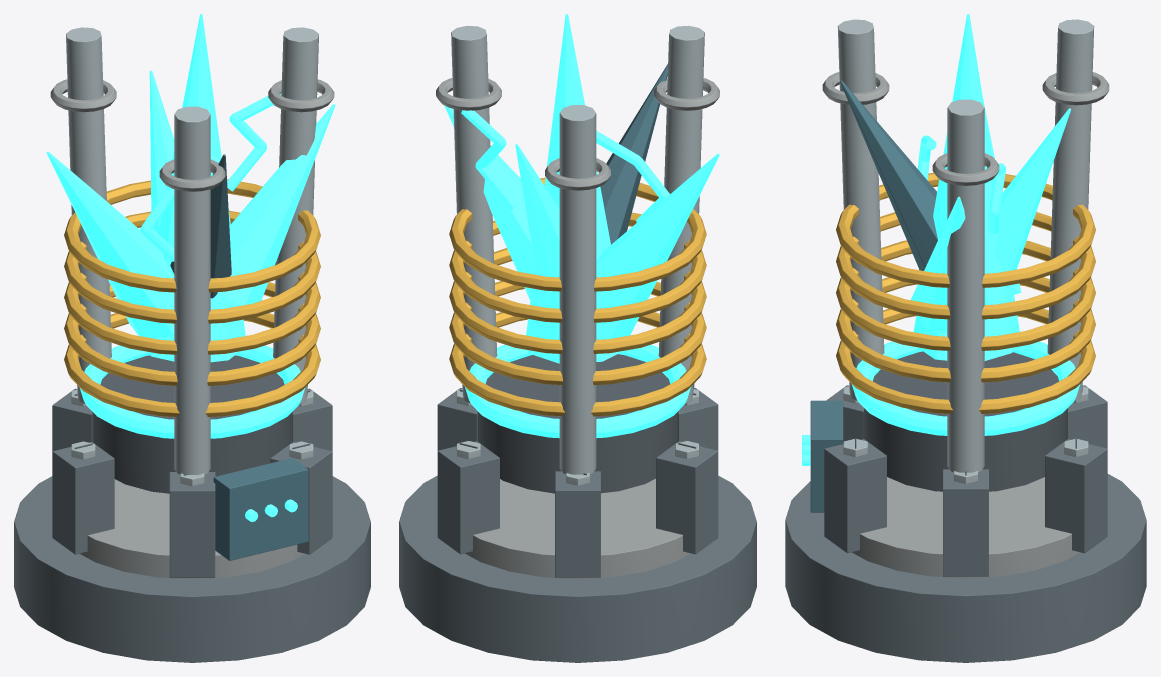
File: 22_Xenocrystal_Shock_Tower.fbx
3 renders of one model, left to right at view 1: azimuth 30°, elevation 25°; view 2: azimuth 150°, elevation 25°; view 3: azimuth 270°, elevation 25°, orthographic.
Visible parts, largest first — view 1: 22_Xenocrystal_Shock_Tower; view 2: 22_Xenocrystal_Shock_Tower; view 3: 22_Xenocrystal_Shock_Tower.
Part boxes in pixels (x1,y1,x2,y2): 22_Xenocrystal_Shock_Tower: (14,14,370,662); 22_Xenocrystal_Shock_Tower: (399,14,756,662); 22_Xenocrystal_Shock_Tower: (785,14,1146,662).
Size of the model in its own units: 1.56 by 2.75 by 1.56.
